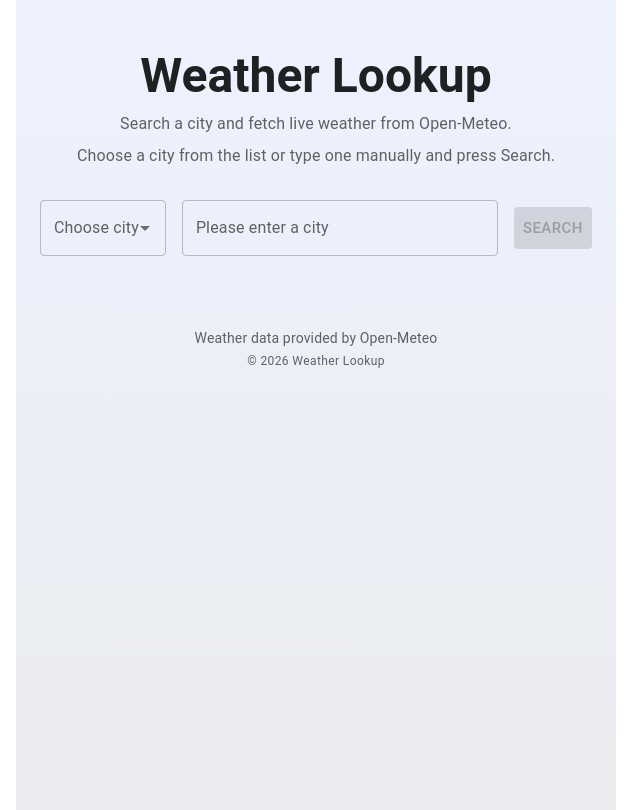
Test: App integration › should display an error when trying to fetch weather for an invalid city
The width and height of the screenshot is (633, 810).
Type "InvalidCityName" into the field labelled "Please enter a city" at (340,228), box [182,200,498,256]
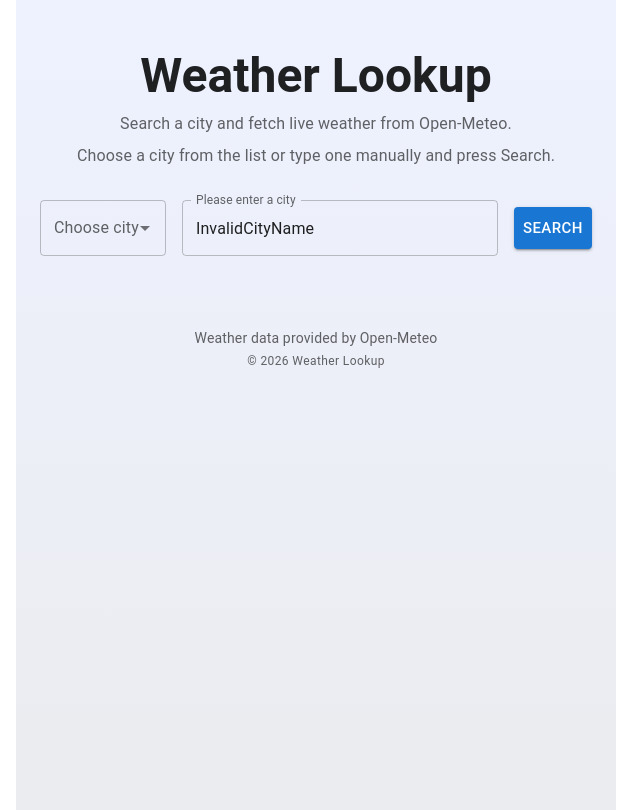
Click the button "Search" at (553,228), box [514,207,592,249]
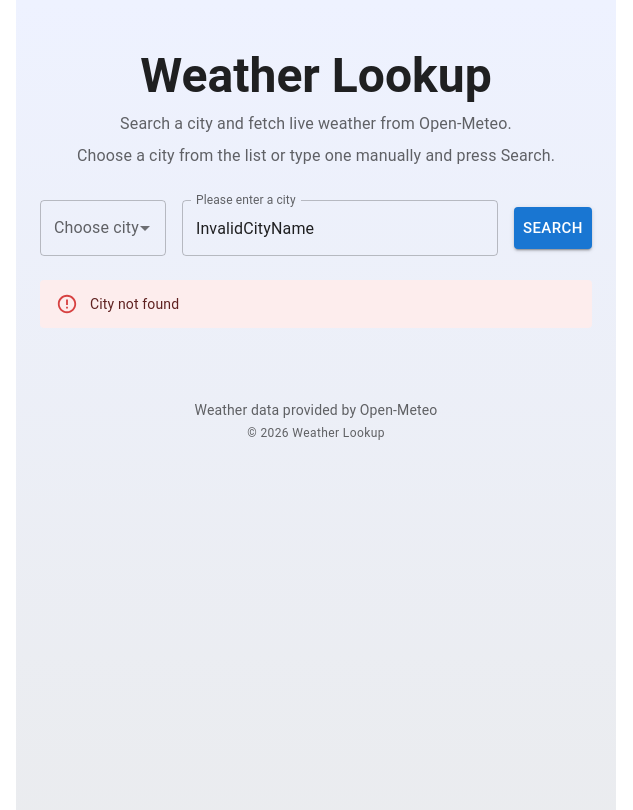
Now the text "City not found" is shown, box [90,296,179,312]
